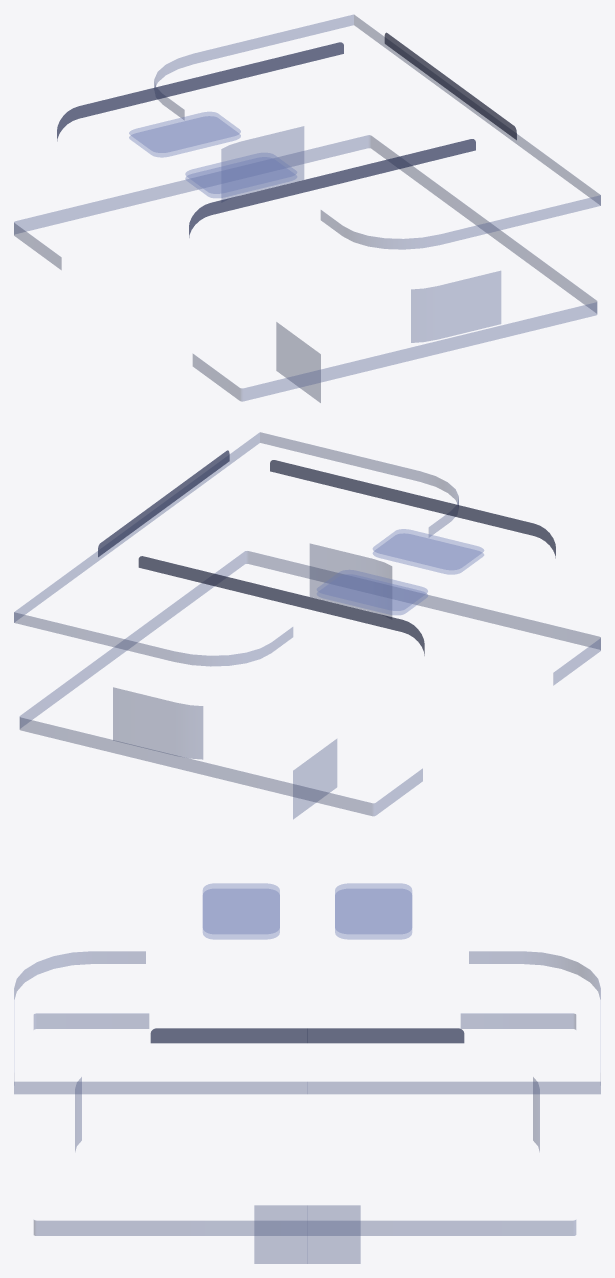
Rendered from museum-Alpha.glb.
The picture shows the model from 3 angles, top to bottom: view 1: azimuth 30°, elevation 25°; view 2: azimuth 150°, elevation 25°; view 3: azimuth 270°, elevation 25°; orthographic projection. The views are drawn at different scales.
Visible parts, largest first — view 1: RAILING1, RAILING3, Windows F1, RAILING2, Windows Ceiling, Window Base; view 2: RAILING1, RAILING3, Windows F1, RAILING2, Windows Ceiling, Window Base; view 3: RAILING1, RAILING2, Windows Ceiling, Window Base, RAILING3, Windows F1.
Boxes of the visible parts, x1,y1,x2,y2 form: RAILING1: (14,135,597,401); RAILING3: (57,32,516,237); Windows F1: (221,126,500,342); RAILING2: (154,14,600,249); Windows Ceiling: (129,112,296,197); Window Base: (276,322,320,402); RAILING1: (19,551,600,815); RAILING3: (98,450,555,655); Windows F1: (113,543,391,759); RAILING2: (14,432,458,666); Windows Ceiling: (317,529,483,614); Window Base: (293,739,336,819); RAILING1: (34,1013,575,1235); RAILING2: (14,951,600,1094); Windows Ceiling: (202,883,412,939); Window Base: (254,1205,360,1263); RAILING3: (150,1028,464,1043); Windows F1: (75,1077,539,1151).
Bounding box in the file's own units: 26.38 × 18.93 × 31.31.
